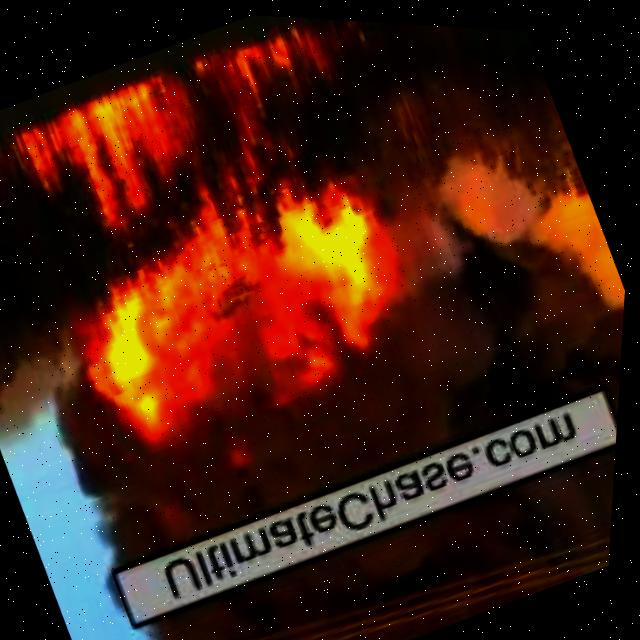Fire: (0, 10, 447, 479)
Smoke: (0, 79, 636, 620), (141, 389, 622, 640)
